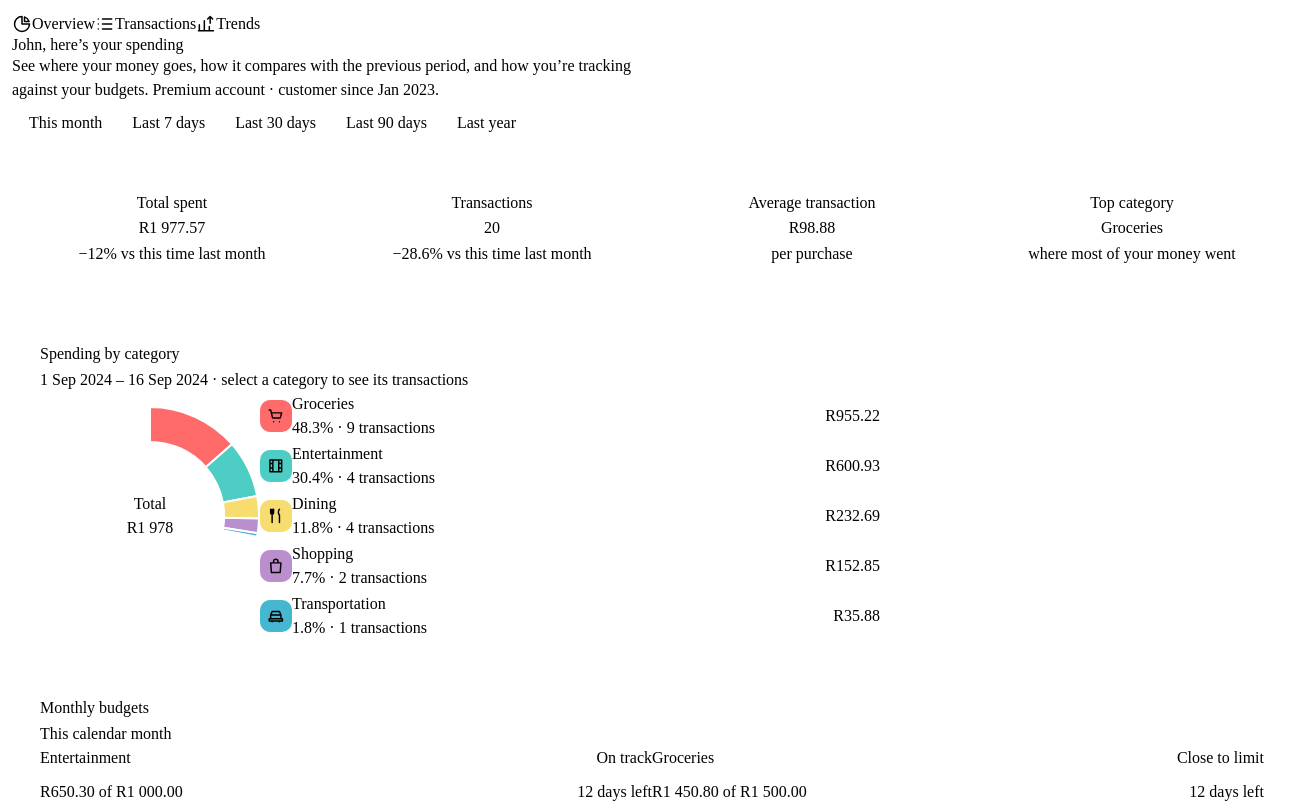
it: SpendingInsightsPage › hides monthly budgets for "Last 7 days"
Expected: the heading "John, here’s your spending" is shown, [12, 36, 184, 53]
Click the button "This month". click: (66, 123)
box: [15, 105, 116, 141]
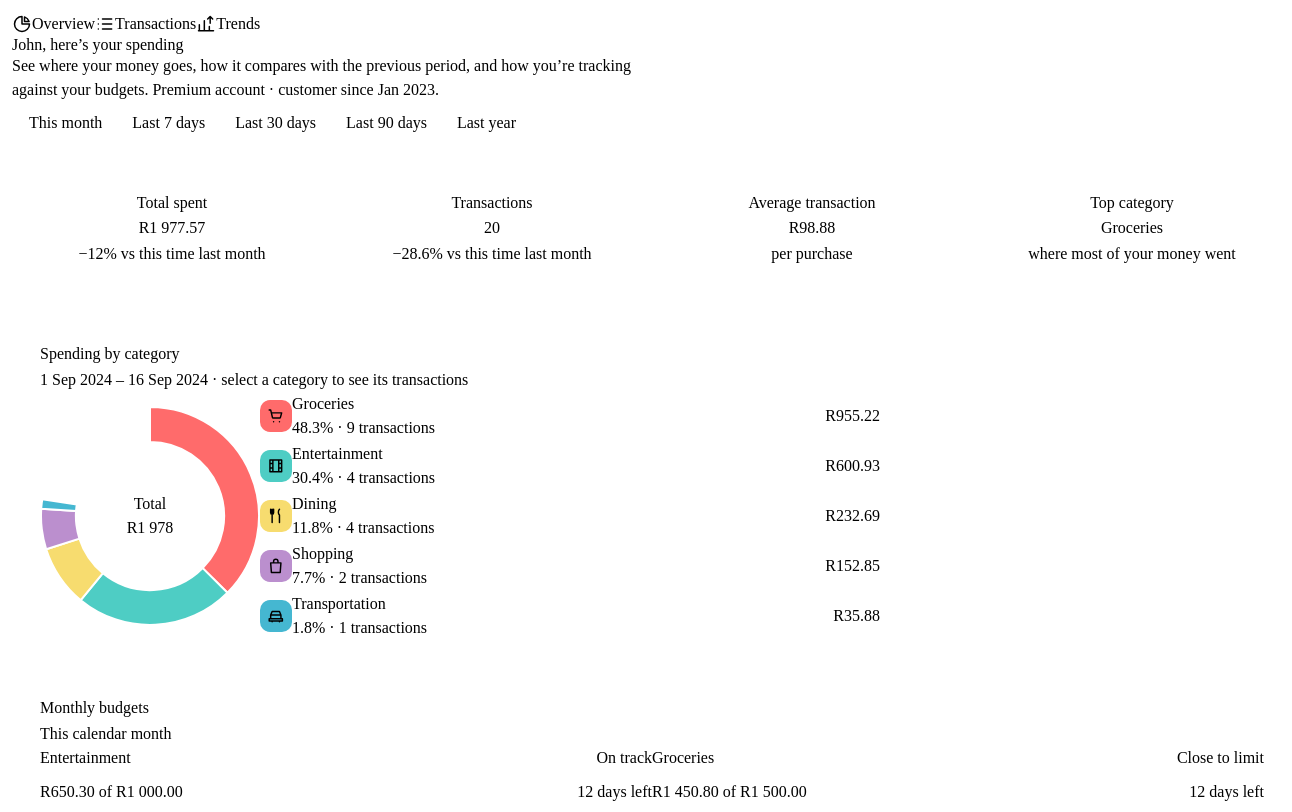
Click the button "Last 7 days". click: (169, 123)
box: [118, 105, 219, 141]
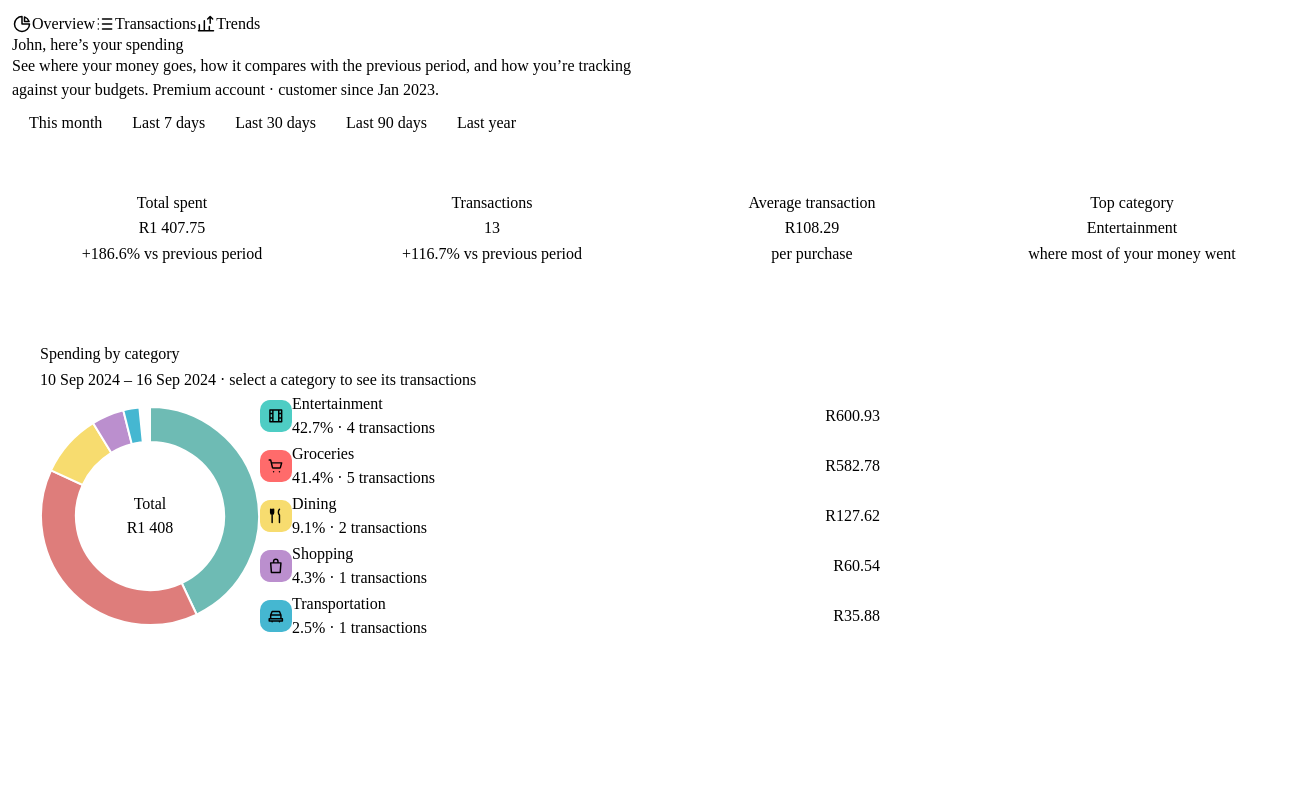
Expected: the heading "Monthly budgets" is gone
